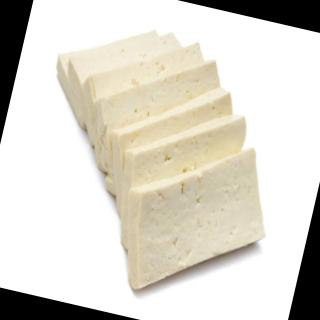Tahu: (46, 29, 278, 301)
